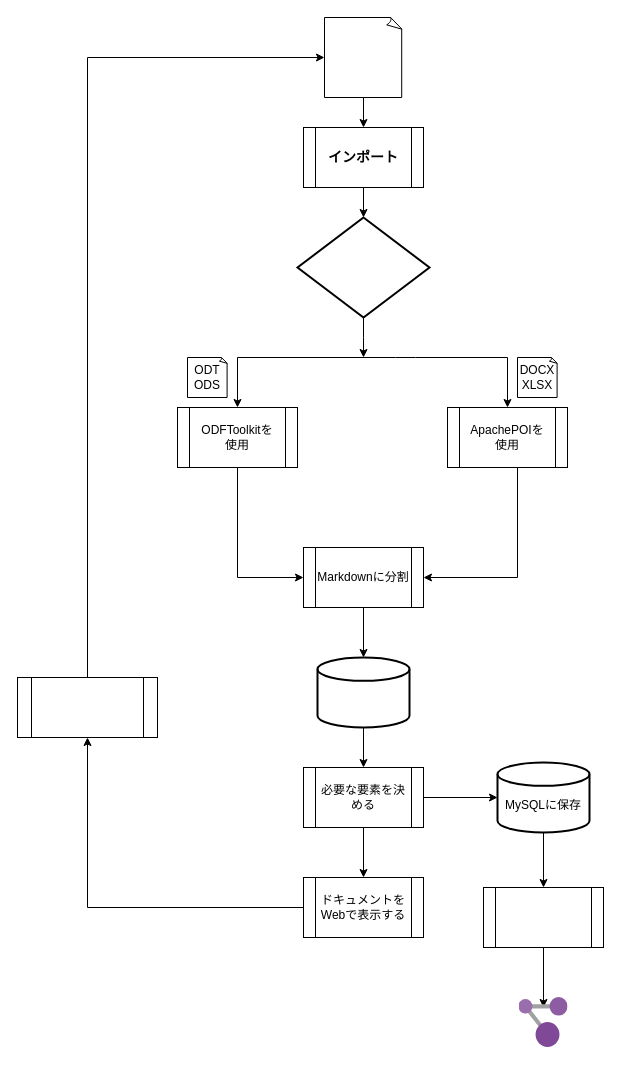
This 621x1065 diagram has some shape labels left out. Each missing label, with the box of its shape:
Apache Kafka 使ってグラフに 入る: (482, 886, 604, 948)
MongoDBに保存: (316, 656, 410, 728)
ODT ODS DOCX XLSX: (324, 16, 402, 98)
エレメントID 付けて エクスポート: (16, 676, 158, 738)
ドキュメント タイプを確認する: (296, 216, 430, 318)
